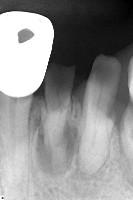Furcation Involvement: (35, 125, 80, 177)
